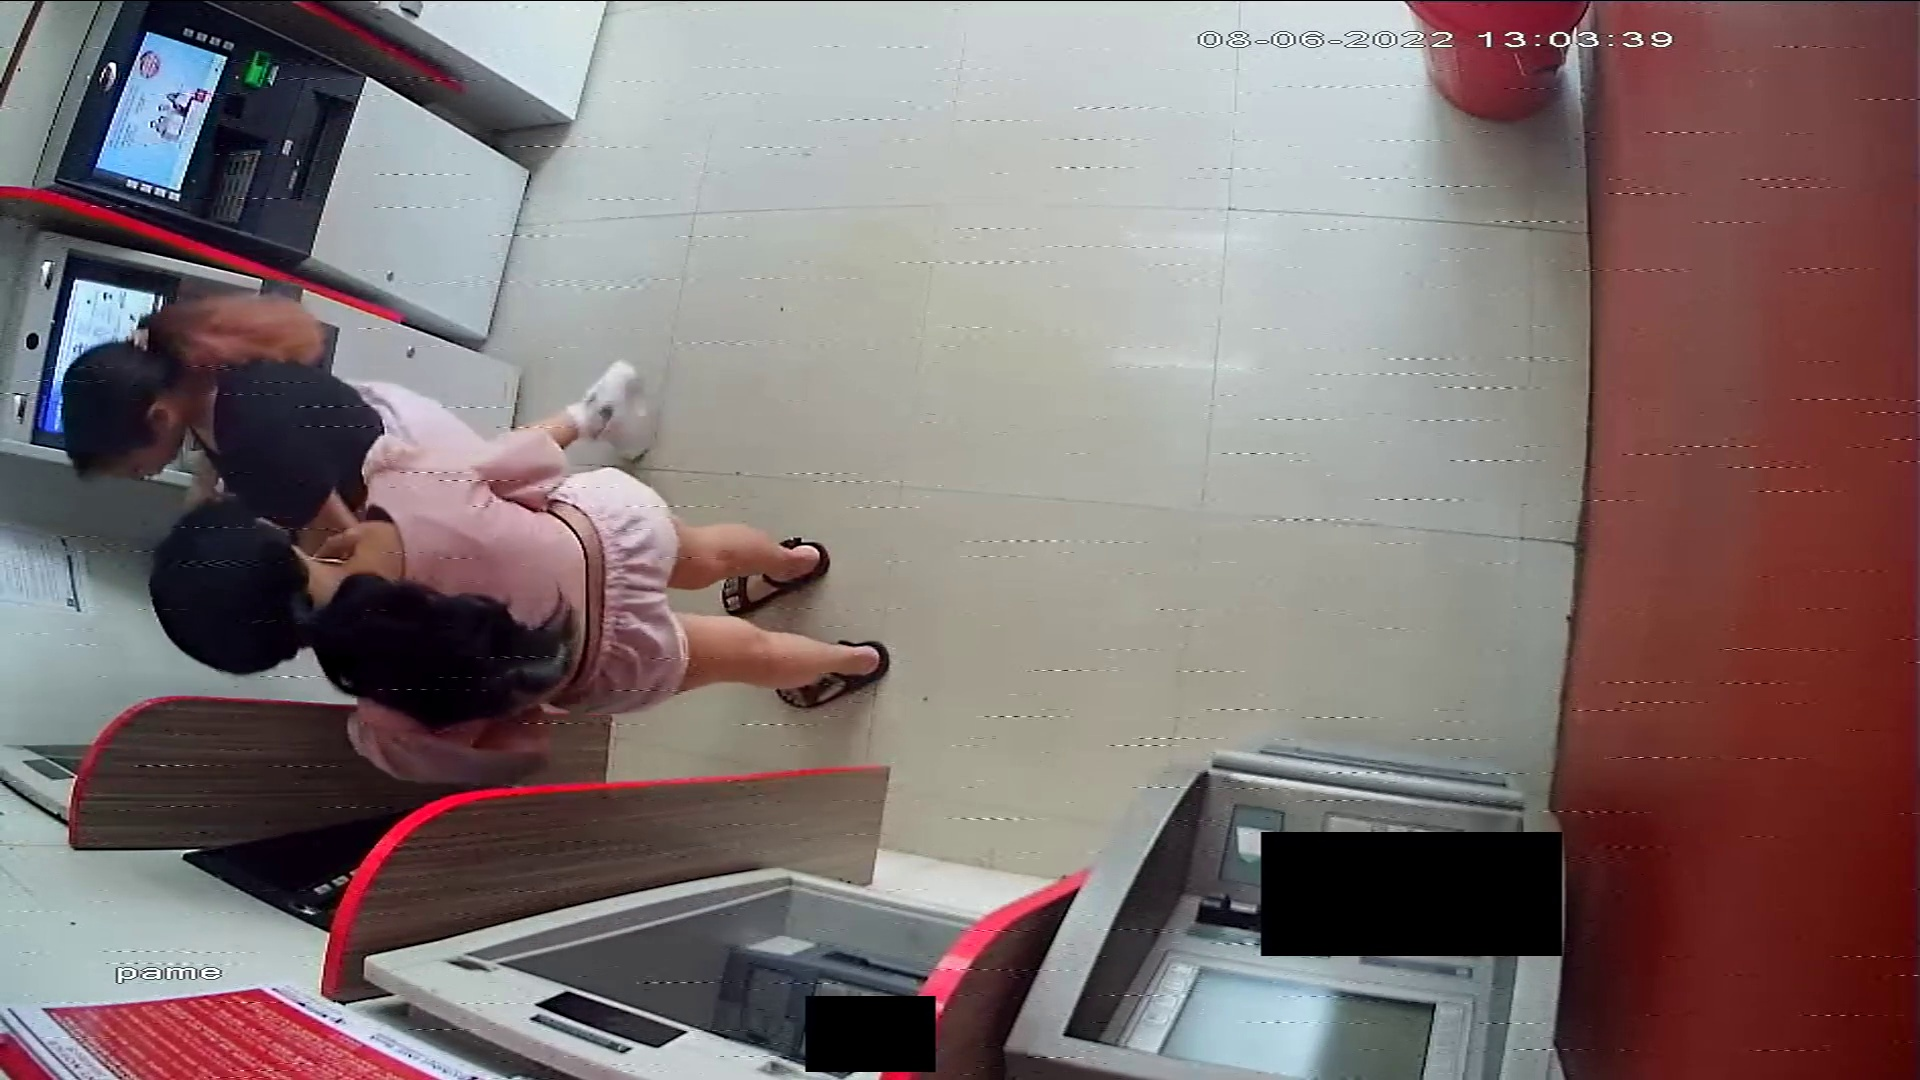person: (149, 460, 889, 784), (61, 294, 673, 543)
